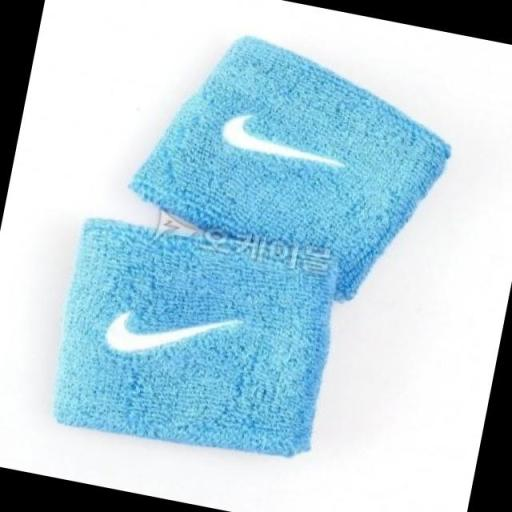Nike: (209, 102, 356, 180)
